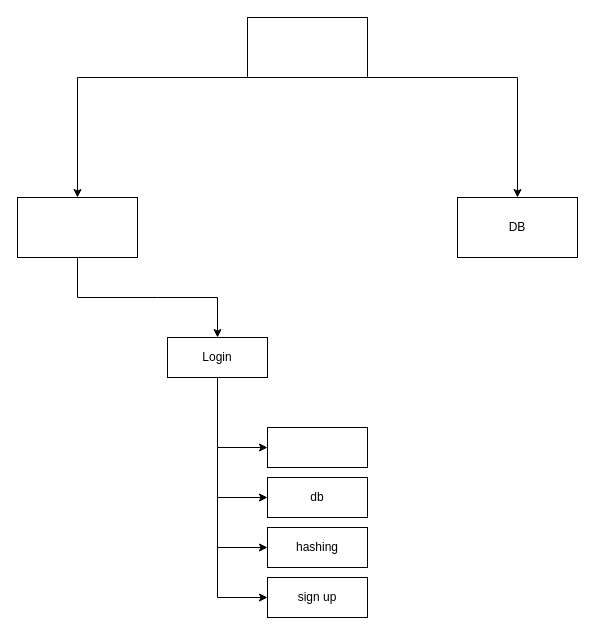
Image size: 595x635. Some labels were removed from this diagram. Here are the shapes that lost their labels. From the top down, the centre of each, then its label:
point (307, 47): Task Board Website
point (77, 227): User
point (317, 447): validate
